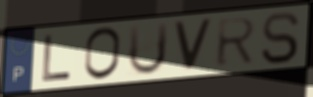L: (40, 32, 74, 85)
O: (82, 25, 123, 83)
R: (214, 15, 259, 70)
S: (259, 10, 303, 66)
U: (125, 20, 171, 78)
V: (171, 18, 215, 73)
